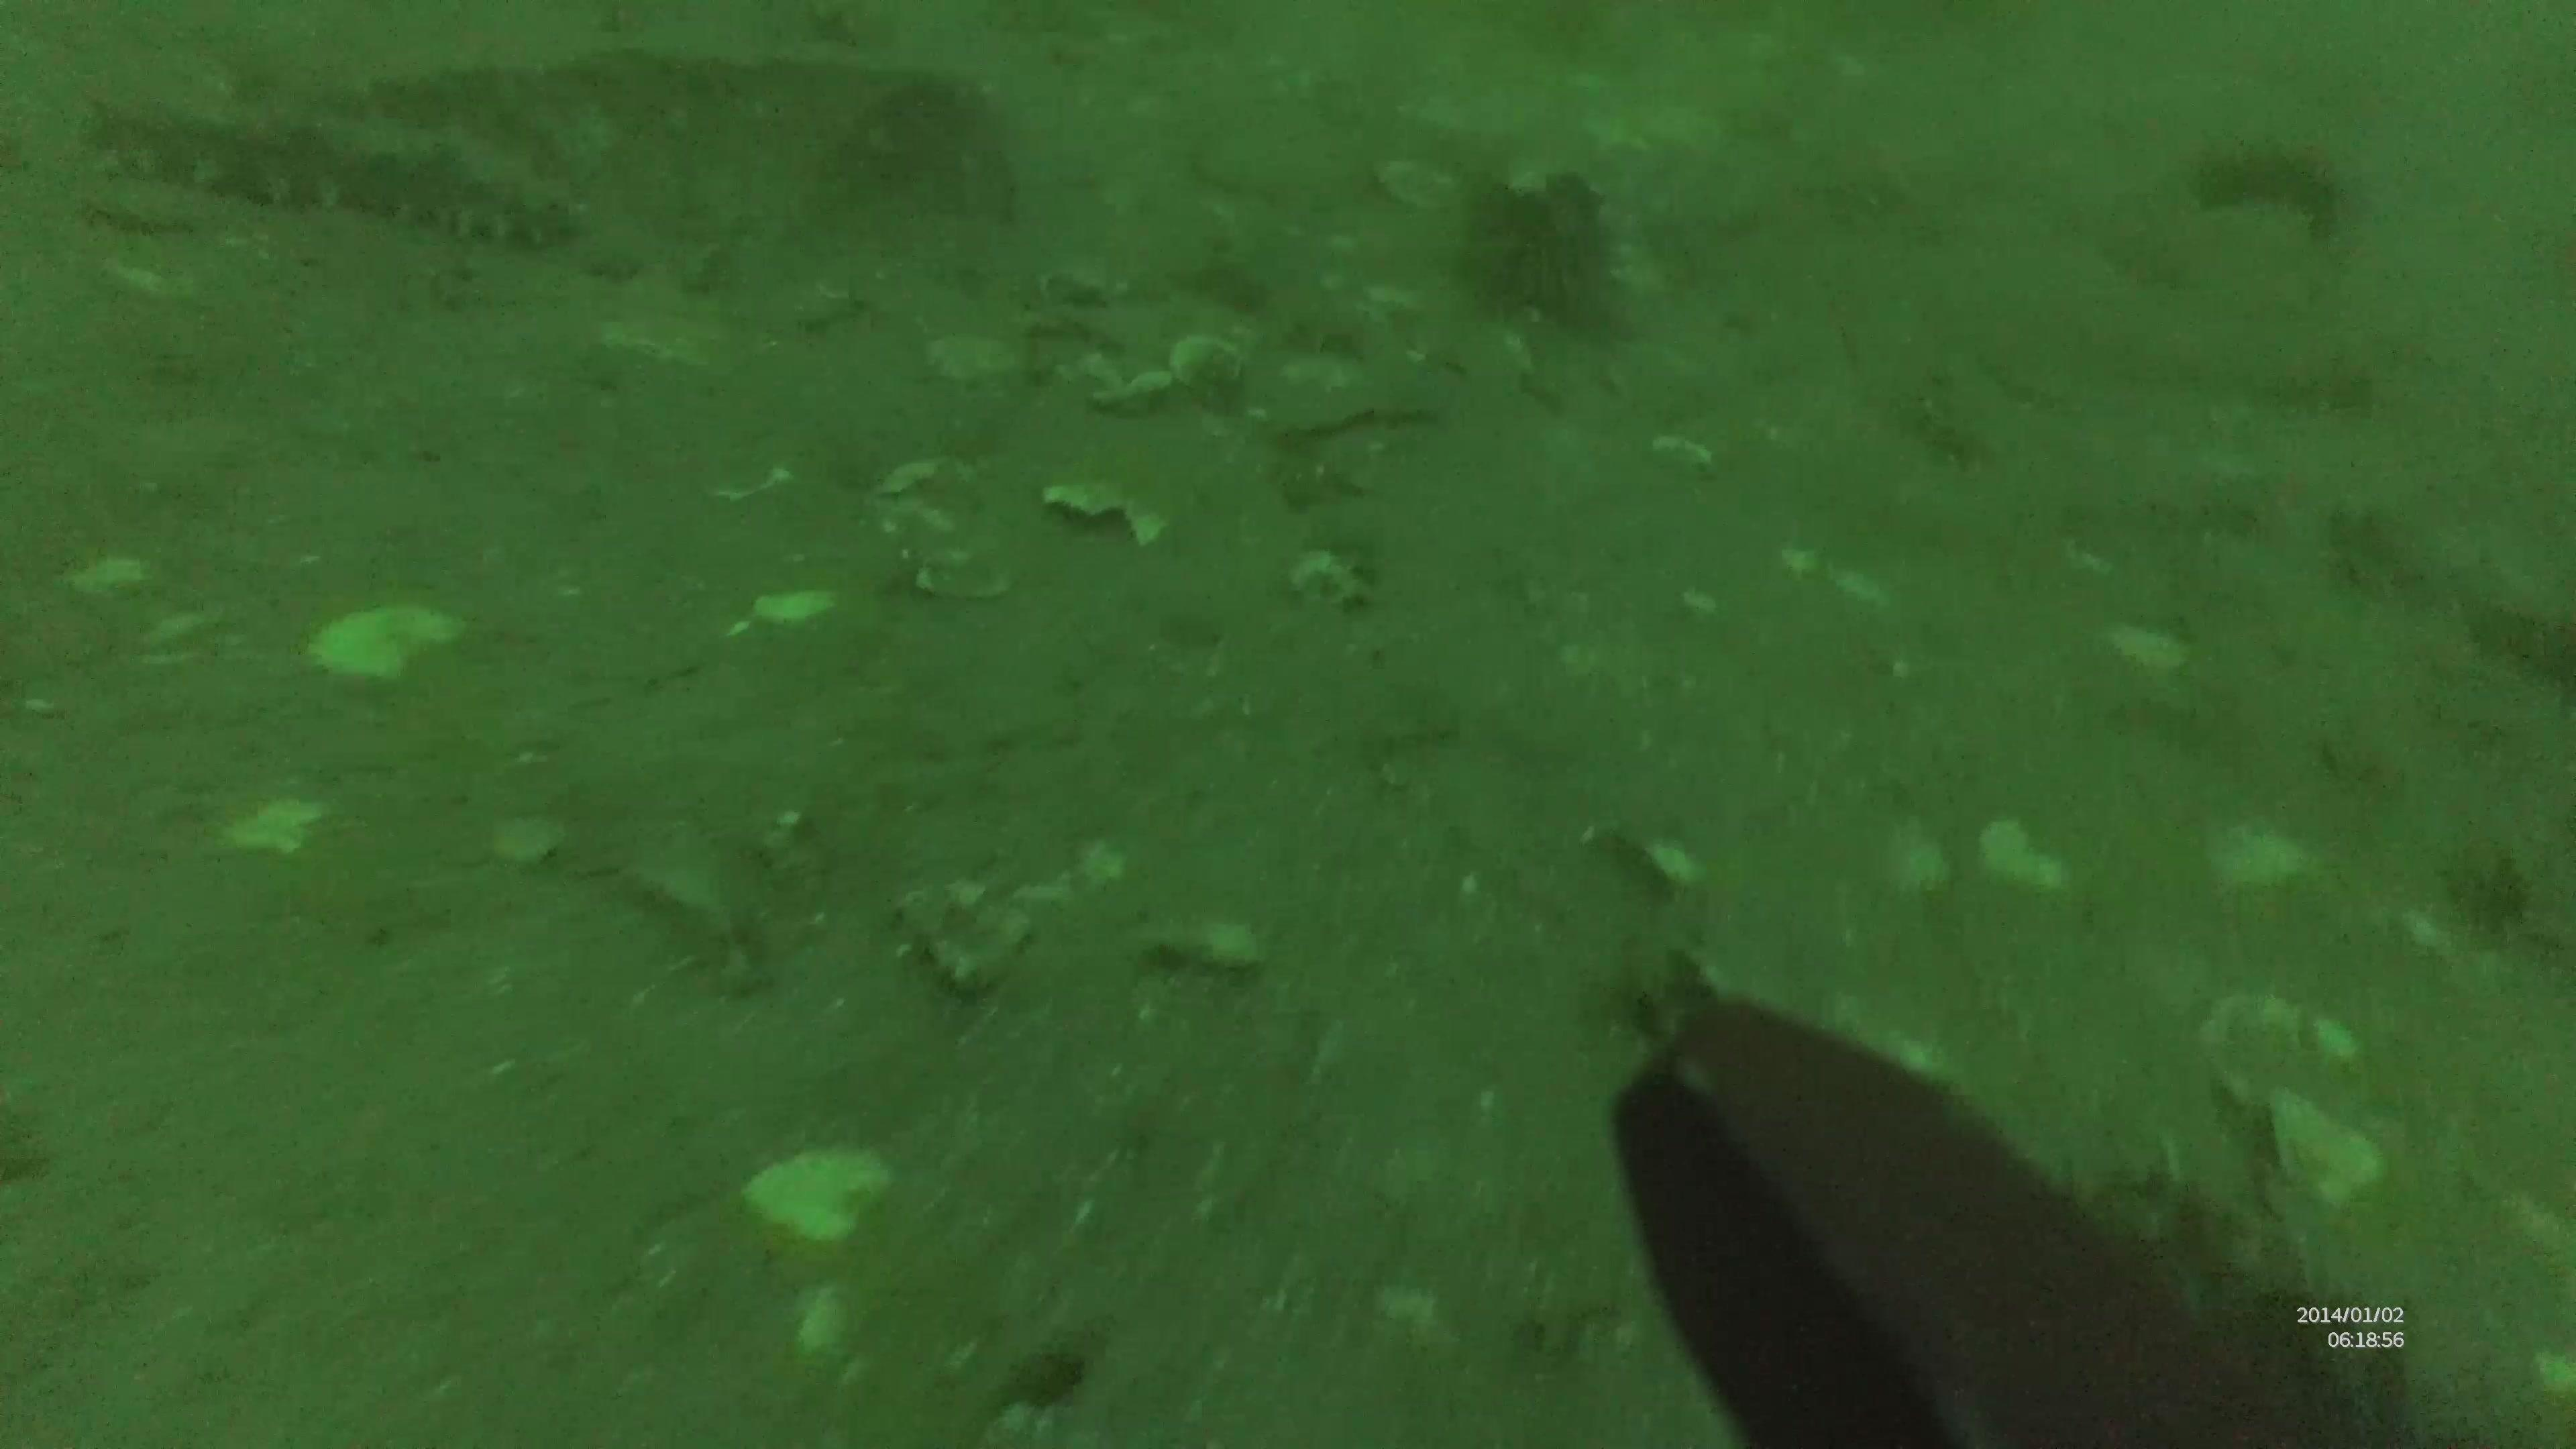echinus: (1476, 166, 1619, 326), (2181, 124, 2348, 241)
holothurian: (88, 96, 589, 244)
